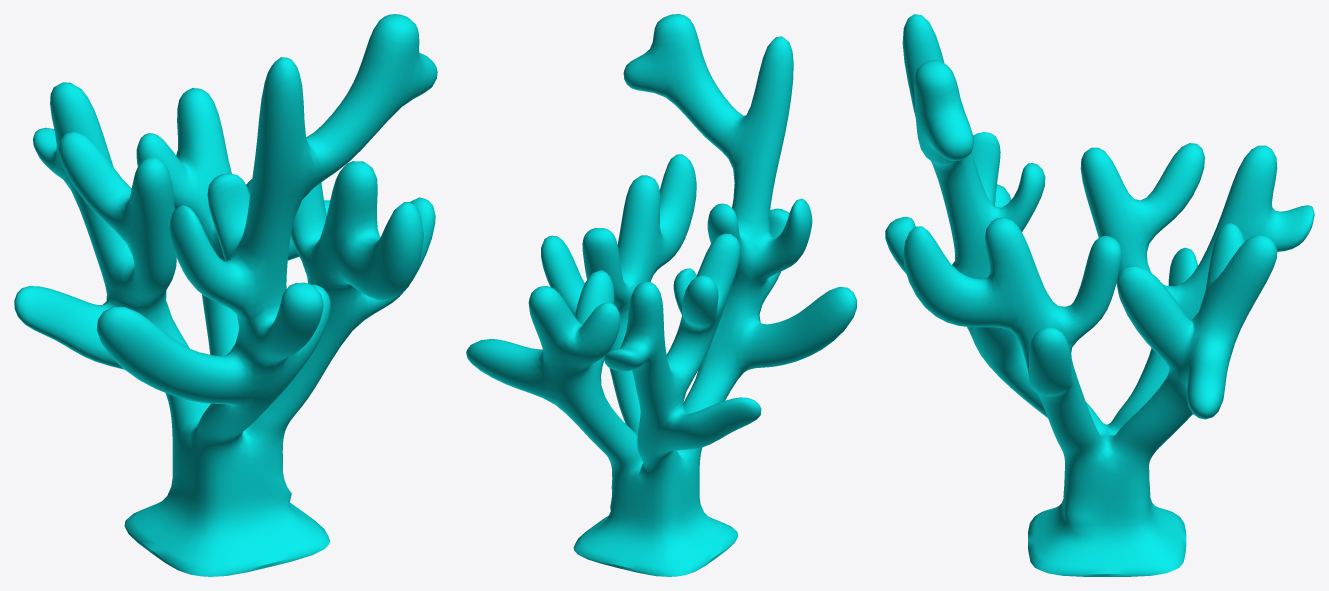
File: bubbleCoral-SP.fbx
The picture shows the model from 3 angles, left to right: view 1: azimuth 30°, elevation 25°; view 2: azimuth 150°, elevation 25°; view 3: azimuth 270°, elevation 25°; orthographic projection. The views are drawn at different scales.
Visible parts, largest first — view 1: Cube; view 2: Cube; view 3: Cube.
Part boxes in pixels (<box>): Cube: <box>14,14,437,576</box>; Cube: <box>466,14,856,576</box>; Cube: <box>885,14,1314,576</box>.
Bounding box in the file's own units: 8.96 × 13.3 × 10.04.
